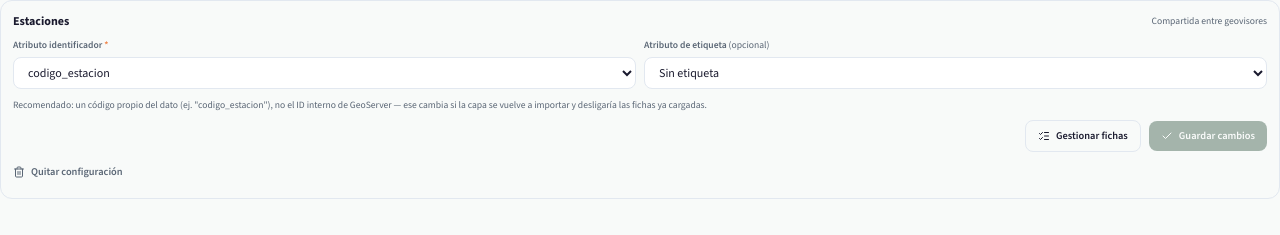
Scenario: FichaCapaConfigRow — quitar la configuración › cancelar la confirmación no quita nada
Click the button "Quitar configuración". click: (68, 172)
box: [13,163,123,180]
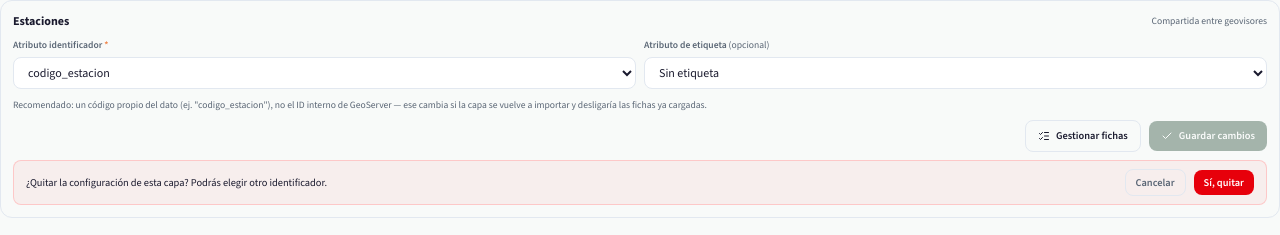
Click the button "Cancelar". click: (1155, 182)
box: [1124,169,1186,196]
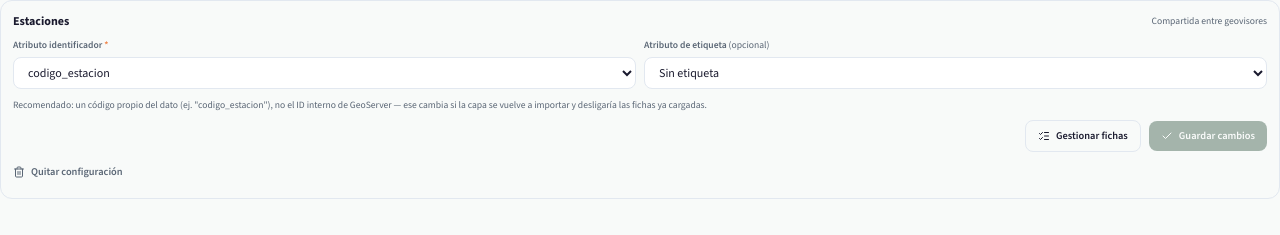
Now the text "¿Quitar la configuración de esta capa?" is gone
